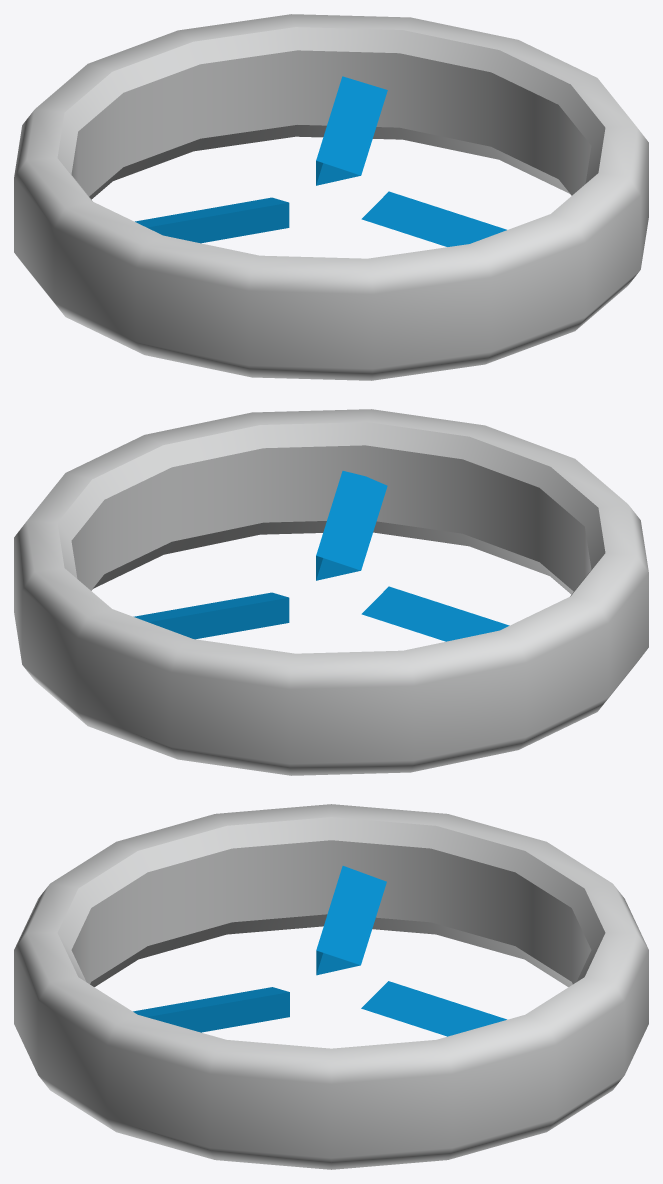
The model's file is Drone_001_Propeller_001.fbx.
The picture shows the model from 3 angles, top to bottom: view 1: azimuth 30°, elevation 25°; view 2: azimuth 150°, elevation 25°; view 3: azimuth 270°, elevation 25°; orthographic projection.
Visible parts, largest first — view 1: Drone_001_Propeller_001; view 2: Drone_001_Propeller_001; view 3: Drone_001_Propeller_001.
Boxes of the visible parts, x1,y1,x2,y2 form: Drone_001_Propeller_001: (14,14,648,380); Drone_001_Propeller_001: (14,409,648,775); Drone_001_Propeller_001: (14,804,648,1169).
Size of the model in its own units: 23.26 by 23.26 by 4.38.
